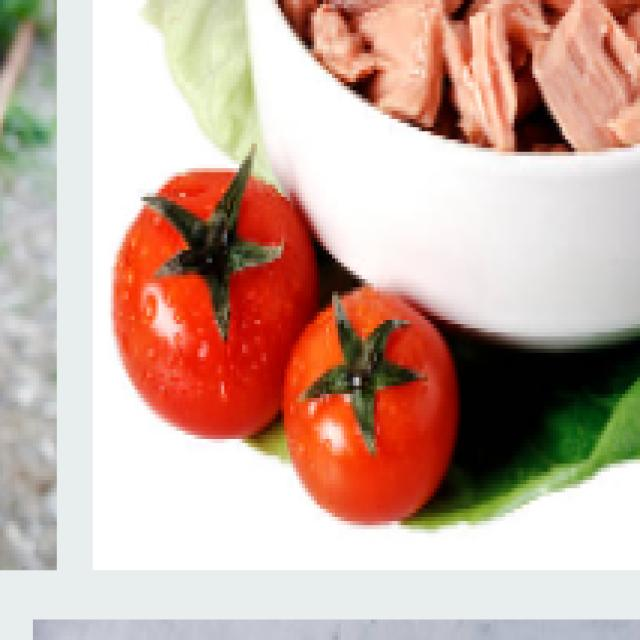Tomato: (121, 159, 313, 427), (282, 282, 462, 514)
